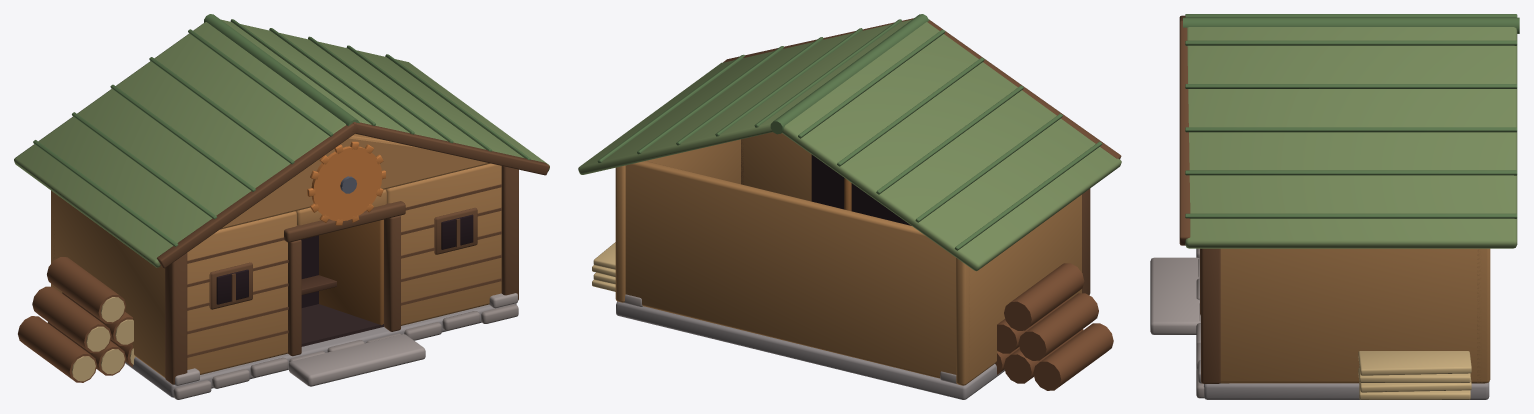
The model's file is sawmill1.glb.
3 renders of one model, left to right at view 1: azimuth 30°, elevation 25°; view 2: azimuth 150°, elevation 25°; view 3: azimuth 270°, elevation 25°, orthographic. The views are drawn at different scales.
Visible parts, largest first — view 1: pine-frame, pine-roof, stone-floor, site, copper-blade; view 2: pine-frame, pine-roof, site, stone-floor; view 3: pine-roof, pine-frame, stone-floor, site.
Part boxes in pixels (bbox=[...]): pine-frame: bbox=[51, 133, 518, 384]; pine-roof: bbox=[14, 14, 549, 268]; stone-floor: bbox=[125, 293, 518, 399]; site: bbox=[18, 257, 135, 382]; copper-blade: bbox=[307, 141, 385, 225]; pine-frame: bbox=[615, 132, 1090, 385]; pine-roof: bbox=[578, 14, 1121, 271]; site: bbox=[592, 242, 1113, 390]; stone-floor: bbox=[616, 294, 1004, 399]; pine-roof: bbox=[1179, 14, 1519, 248]; pine-frame: bbox=[1200, 248, 1490, 383]; stone-floor: bbox=[1150, 248, 1489, 399]; site: bbox=[1358, 351, 1471, 399].
Bounding box in the file's own units: 6.4 × 3.38 × 3.97.
